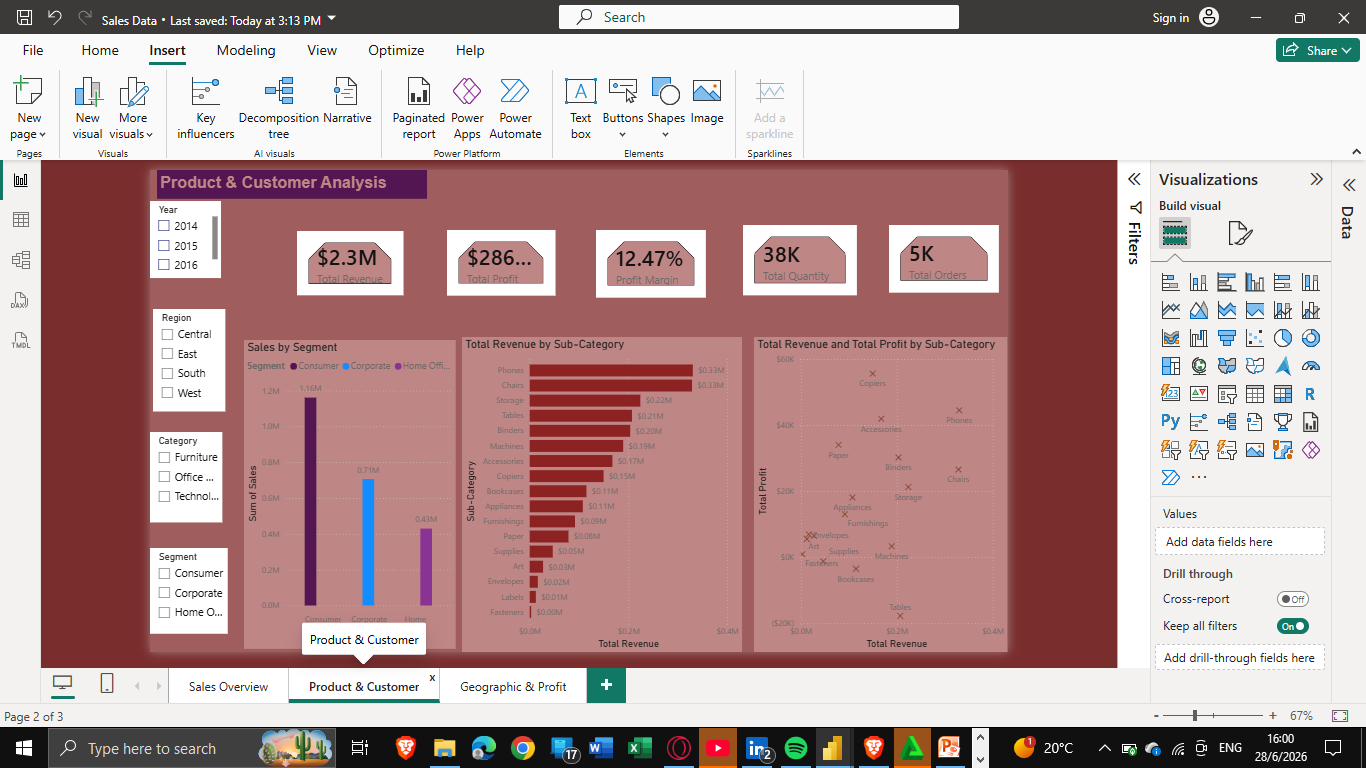

This screenshot's page, from the dashboard's own definition file:
{"tool":"powerbi","page":{"name":"Product & Customer","canvas":[1280,720],"ordinal":1},"visuals":[{"type":"textbox","box":[10,0,402.9,42.9],"z":0},{"type":"clusteredBarChart","fields":{"Y":["Sample - Superstore.Total Revenue"],"Category":["Sample - Superstore.Sub-Category"]},"box":[466.3,249.4,418.1,470.6],"z":1000},{"type":"scatterChart","fields":{"X":["Sample - Superstore.Total Revenue"],"Y":["Sample - Superstore.Total Profit"],"Category":["Sample - Superstore.Sub-Category"]},"box":[901.4,249.4,378.4,470.6],"z":2000},{"type":"clusteredColumnChart","title":"Sales by Segment ","fields":{"Category":["Sample - Superstore.Segment"],"Y":["Sum(Sample - Superstore.Sales)"],"Series":["Sample - Superstore.Segment"]},"box":[140.3,253.7,316.1,460.6],"z":3000},{"type":"cardVisual","fields":{"Data":["Sample - Superstore.Total Revenue"]},"box":[219.7,90.7,158.7,96.4],"z":4000},{"type":"cardVisual","fields":{"Data":["Sample - Superstore.Total Profit"]},"box":[443.6,89.3,161.6,97.8],"z":5000},{"type":"cardVisual","fields":{"Data":["Sample - Superstore.Profit Margin"]},"box":[666.1,89.3,164.4,100.6],"z":6000},{"type":"cardVisual","fields":{"Data":["Sample - Superstore.Total Quantity"]},"box":[884.4,82.2,170.1,104.9],"z":7000},{"type":"cardVisual","fields":{"Data":["Sample - Superstore.Total Orders"]},"box":[1102.7,82.2,164.4,100.6],"z":8000},{"type":"slicer","fields":{"Values":["Sample - Superstore.Order Date.Variation.Date Hierarchy.Year"]},"box":[0,46.8,106.3,114.8],"z":9000},{"type":"slicer","fields":{"Values":["Sample - Superstore.Region"]},"box":[4.3,206.9,107.7,153.1],"z":10000},{"type":"slicer","fields":{"Values":["Sample - Superstore.Category"]},"box":[0,391.2,107.7,134.6],"z":11000},{"type":"slicer","fields":{"Values":["Sample - Superstore.Segment"]},"box":[0,564.1,116.2,127.6],"z":12000}]}

Visuals, with their boxes on the page's 1280x720 design canvas (x1, y1, x2, y2). These are canvas units, not pixel positions in the 1366x768 screenshot, which may show the page scaled, cropped or inside an application window:
textbox: <bbox>10, 0, 413, 43</bbox>
clusteredBarChart - Sample - Superstore.Total Revenue x Sample - Superstore.Sub-Category: <bbox>466, 249, 884, 720</bbox>
scatterChart - Sample - Superstore.Total Revenue x Sample - Superstore.Total Profit: <bbox>901, 249, 1280, 720</bbox>
"Sales by Segment " clusteredColumnChart: <bbox>140, 254, 456, 714</bbox>
cardVisual - Sample - Superstore.Total Revenue: <bbox>220, 91, 378, 187</bbox>
cardVisual - Sample - Superstore.Total Profit: <bbox>444, 89, 605, 187</bbox>
cardVisual - Sample - Superstore.Profit Margin: <bbox>666, 89, 830, 190</bbox>
cardVisual - Sample - Superstore.Total Quantity: <bbox>884, 82, 1054, 187</bbox>
cardVisual - Sample - Superstore.Total Orders: <bbox>1103, 82, 1267, 183</bbox>
slicer - Sample - Superstore.Order Date.Variation.Date Hierarchy.Year: <bbox>0, 47, 106, 162</bbox>
slicer - Sample - Superstore.Region: <bbox>4, 207, 112, 360</bbox>
slicer - Sample - Superstore.Category: <bbox>0, 391, 108, 526</bbox>
slicer - Sample - Superstore.Segment: <bbox>0, 564, 116, 692</bbox>
